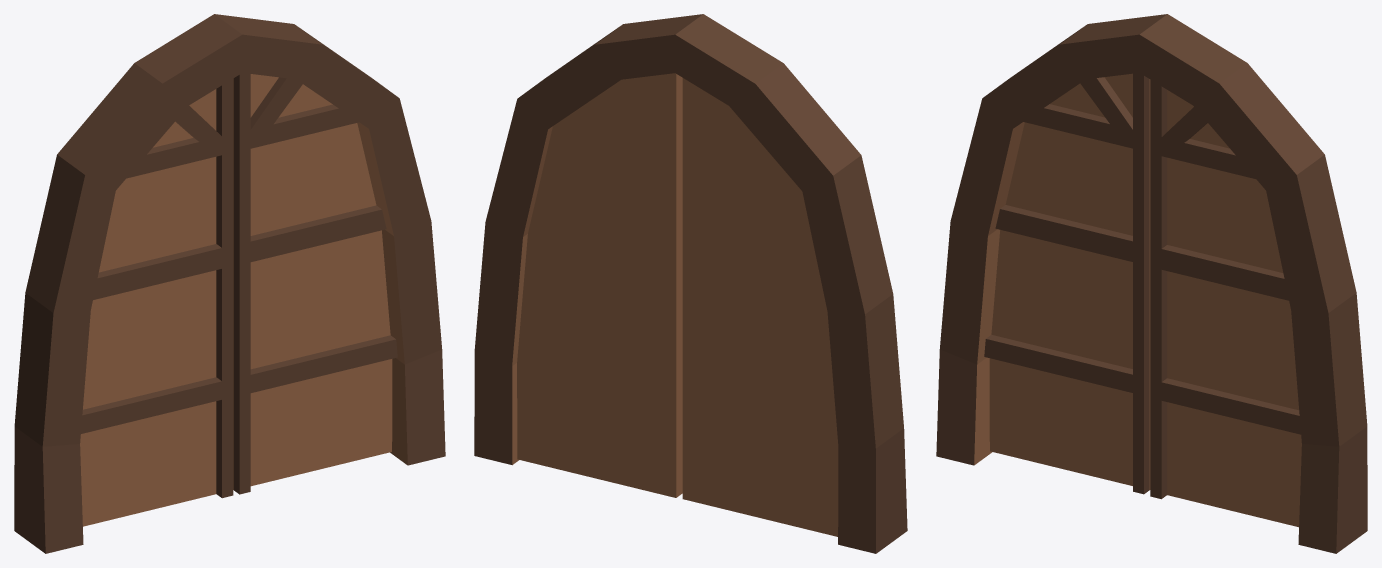
The model's file is quaternius-modular-medieval-buildings-door.glb.
The picture shows the model from 3 angles, left to right: view 1: azimuth 30°, elevation 25°; view 2: azimuth 150°, elevation 25°; view 3: azimuth 330°, elevation 25°; orthographic projection.
Parts seen in each view (by area): view 1: LeftDoor, Door; view 2: LeftDoor, Door; view 3: LeftDoor, Door.
Part boxes in pixels (left/top/right/bottom): LeftDoor: left=80, top=73, right=397, bottom=526; Door: left=14, top=14, right=445, bottom=553; LeftDoor: left=517, top=73, right=838, bottom=536; Door: left=474, top=14, right=907, bottom=553; LeftDoor: left=984, top=73, right=1301, bottom=527; Door: left=936, top=14, right=1367, bottom=553.
Bounding box in the file's own units: 0.8908 × 0.9966 × 0.1209.
